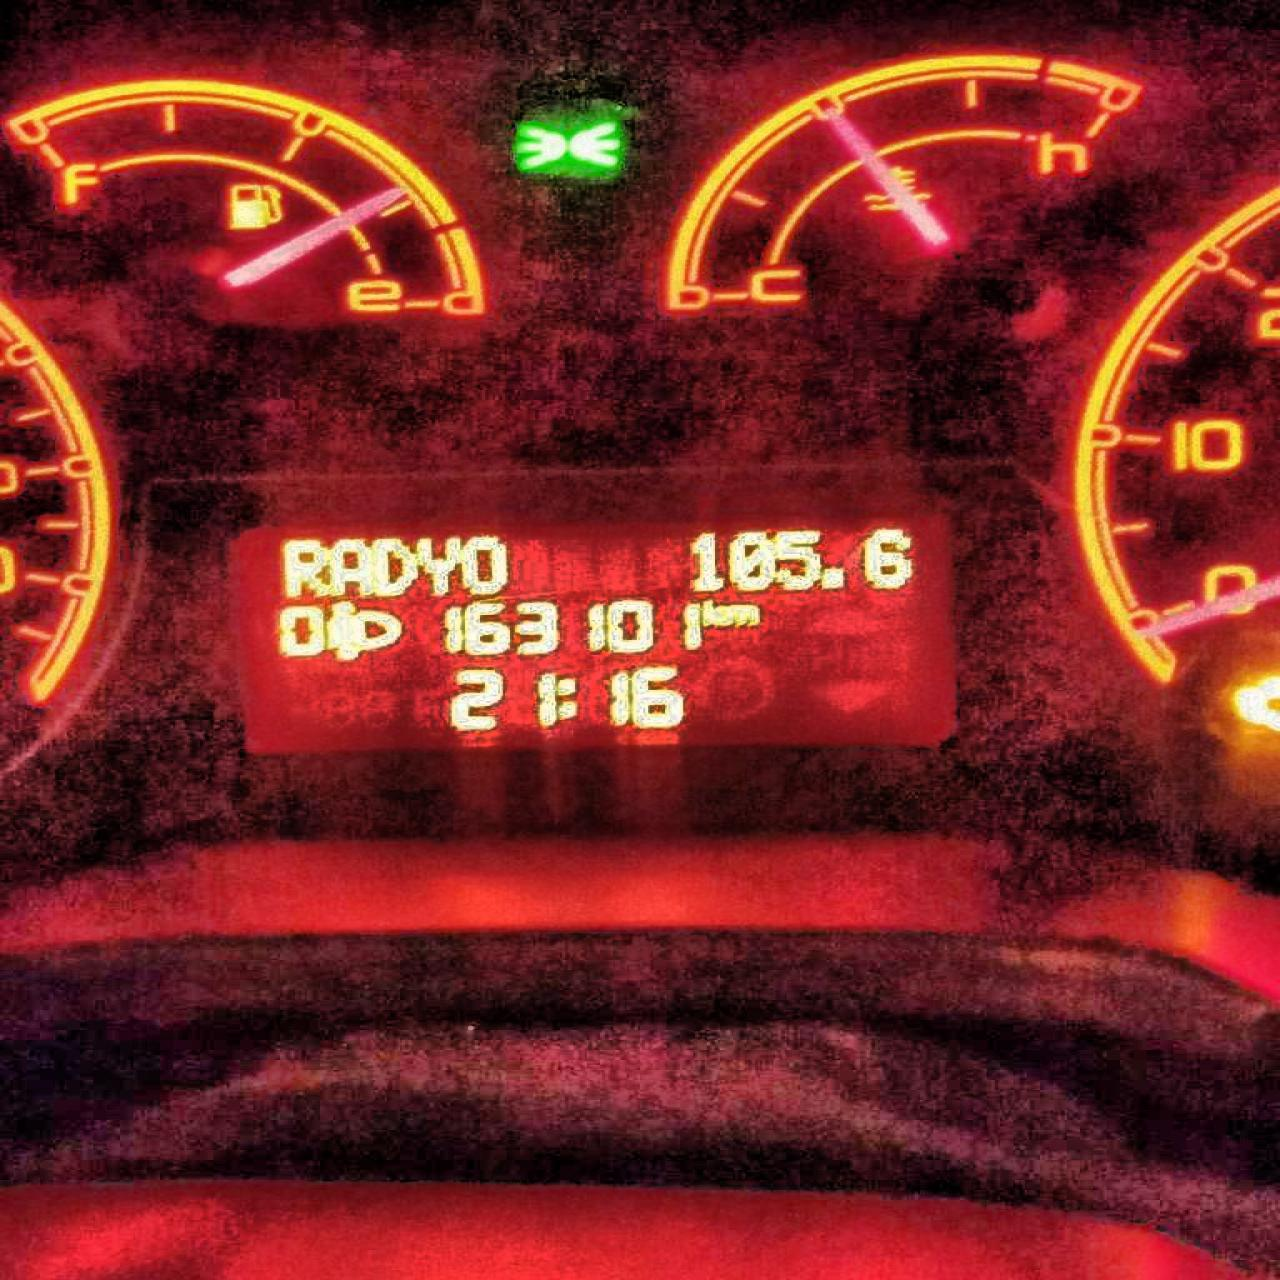-: (821, 563, 846, 592)
0: (727, 526, 771, 592), (273, 602, 325, 658), (605, 597, 655, 653)
1: (683, 526, 724, 592), (599, 663, 628, 729), (529, 666, 553, 730), (435, 601, 462, 655), (579, 598, 604, 654), (675, 597, 699, 652)
2: (445, 663, 506, 733)
3: (512, 598, 558, 655)
5: (774, 524, 819, 592)
6: (628, 663, 685, 728), (857, 526, 913, 588), (462, 598, 510, 655)
X: (274, 535, 328, 599), (459, 533, 509, 597), (370, 533, 417, 598), (416, 533, 462, 597), (328, 535, 369, 598), (554, 670, 576, 721), (723, 601, 762, 627), (699, 597, 723, 627)
odometer: (217, 506, 968, 758)
